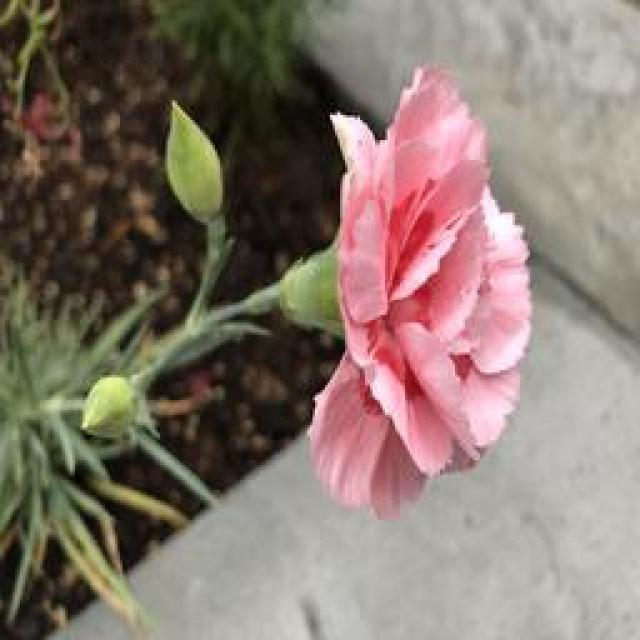carnation: (312, 59, 562, 526)
